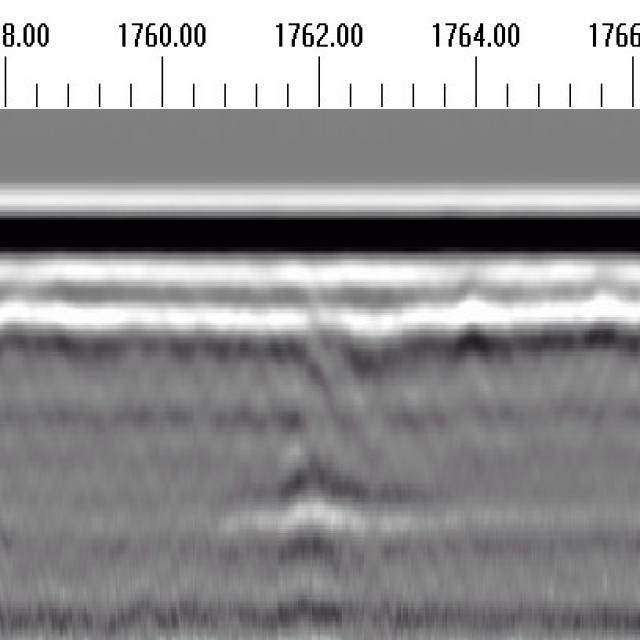loose: (247, 316, 393, 559)
